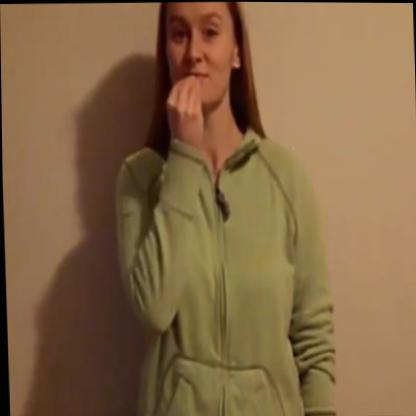Food: (105, 1, 287, 239)
